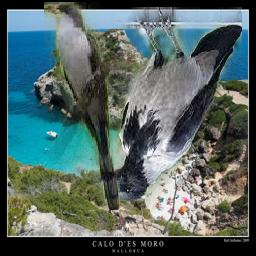Crow: (102, 7, 242, 201)
Cuckoo: (44, 2, 120, 210)
